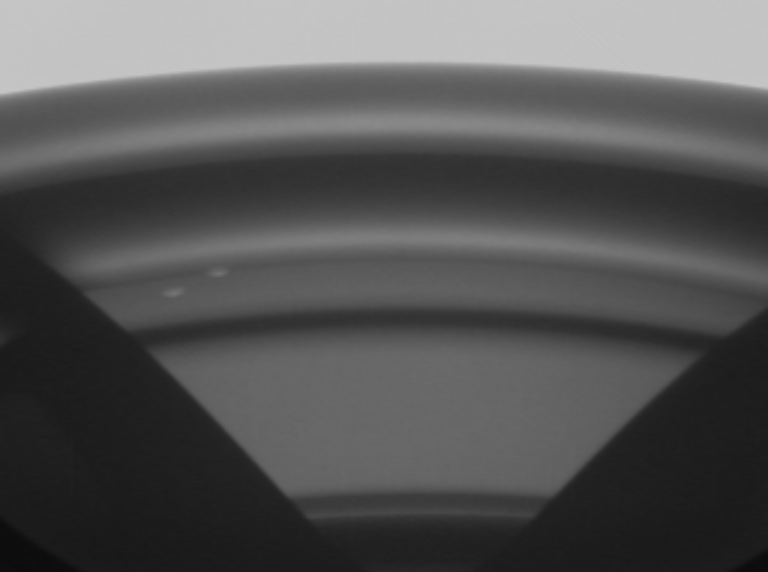defect: (162, 275, 195, 304)
